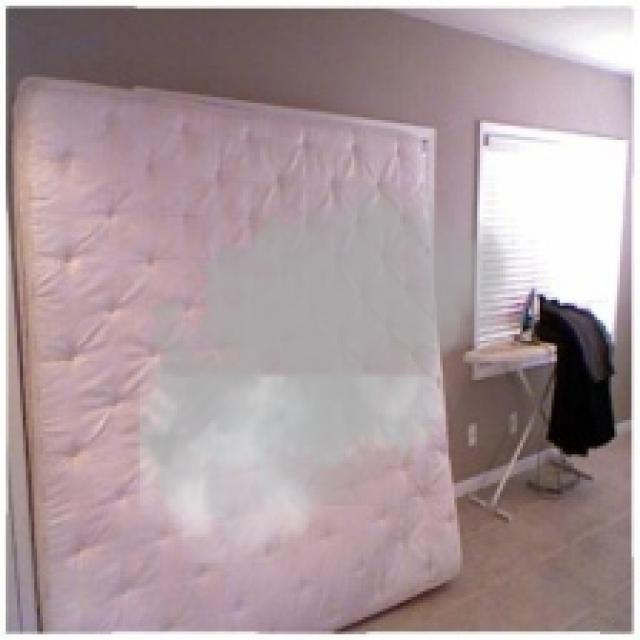smoke: (123, 166, 517, 563)
